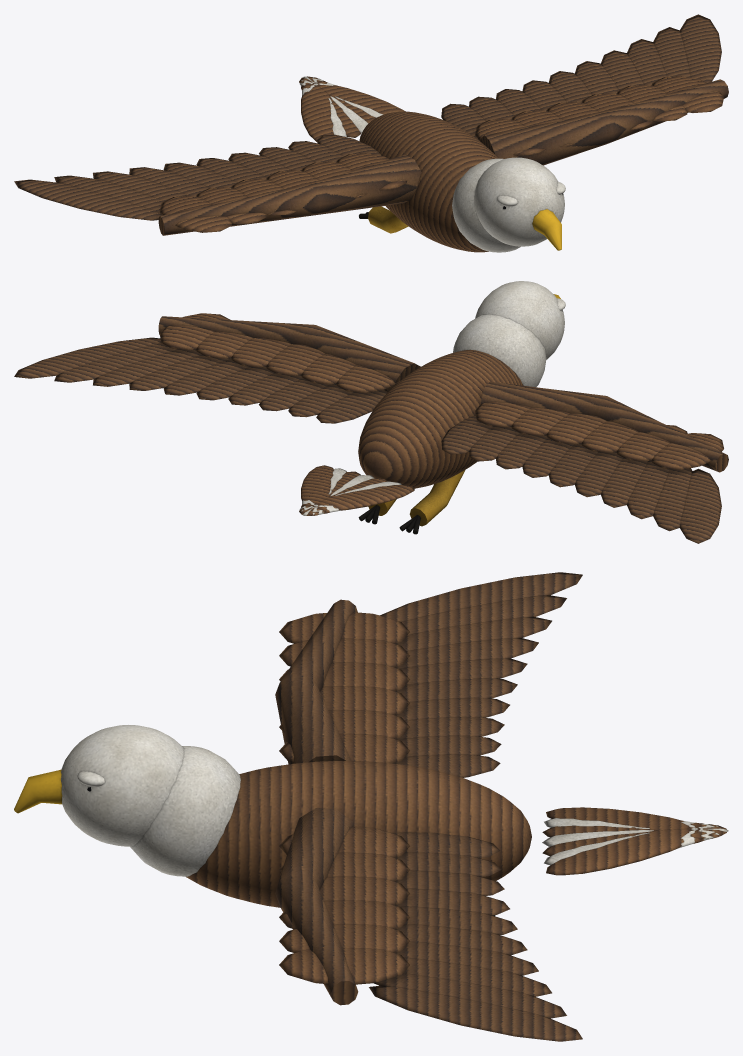
Rendered from pet_aguia.glb.
3 views of the same model, one above another, from view 1: azimuth 30°, elevation 25°; view 2: azimuth 150°, elevation 25°; view 3: azimuth 270°, elevation 25° (orthographic). The views are drawn at different scales.
Parts seen in each view (by area): view 1: asa_e, asa_d, corpo, cabeca; view 2: asa_e, asa_d, corpo, cabeca; view 3: asa_d, asa_e, corpo, cabeca.
Part boxes in pixels (box(x1,y1,x2,y2)): asa_e: box(14, 134, 421, 235); asa_d: box(441, 14, 728, 165); corpo: box(299, 76, 498, 252); cabeca: box(452, 157, 565, 252); asa_e: box(441, 381, 728, 543); asa_d: box(14, 313, 420, 423); corpo: box(299, 349, 523, 534); cabeca: box(453, 281, 565, 387); asa_d: box(275, 808, 582, 1041); asa_e: box(275, 572, 582, 777); corpo: box(186, 761, 728, 916); cabeca: box(14, 725, 240, 876).
Size of the model in its own units: 1.18 by 0.2401 by 0.7622.
1 material, 1 textured.
